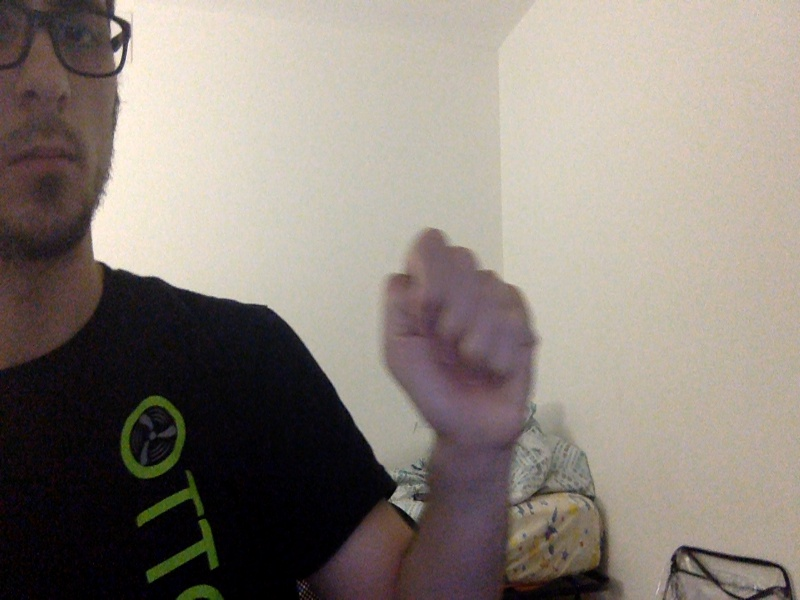0-hand: (377, 228, 538, 445)
